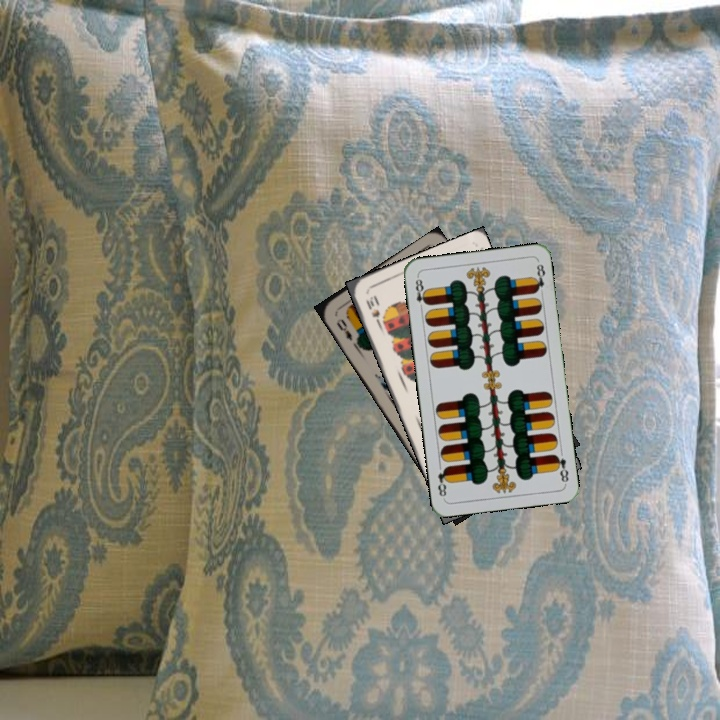E8: (411, 273, 430, 313), (550, 450, 571, 486)
EO: (332, 315, 355, 343)
S10: (362, 292, 384, 329)
